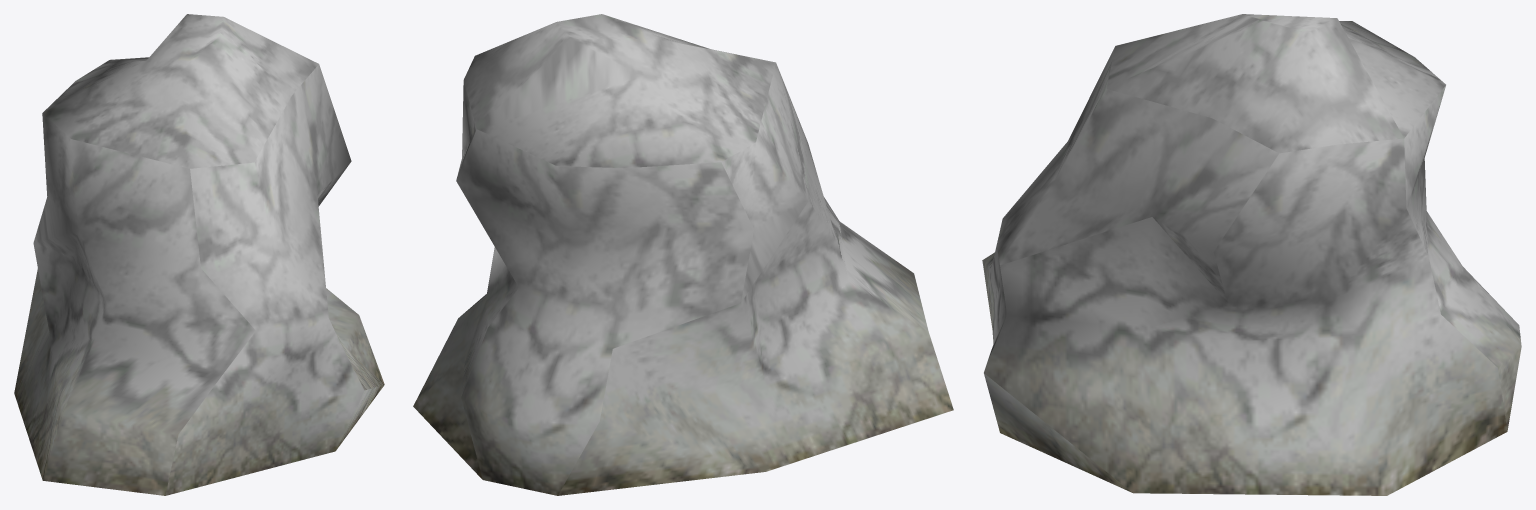
Rendered from general_obj_bigstone05.fbx.
3 views of the same model, side by side, from view 1: azimuth 30°, elevation 25°; view 2: azimuth 150°, elevation 25°; view 3: azimuth 270°, elevation 25° (orthographic). The views are drawn at different scales.
Visible parts, largest first — view 1: Sphere01; view 2: Sphere01; view 3: Sphere01.
Boxes of the visible parts, bbox=[...] form: Sphere01: bbox=[14, 14, 384, 495]; Sphere01: bbox=[413, 14, 953, 495]; Sphere01: bbox=[982, 14, 1521, 495].
Size of the model in its own units: 17.47 by 15.74 by 18.79.
